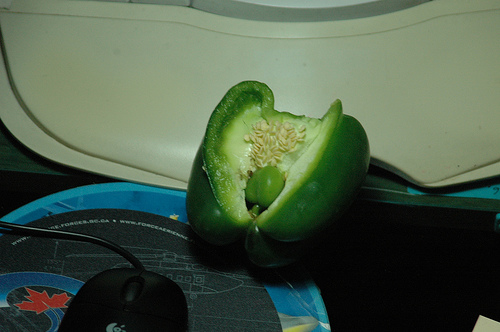capsicum: (184, 76, 373, 273)
